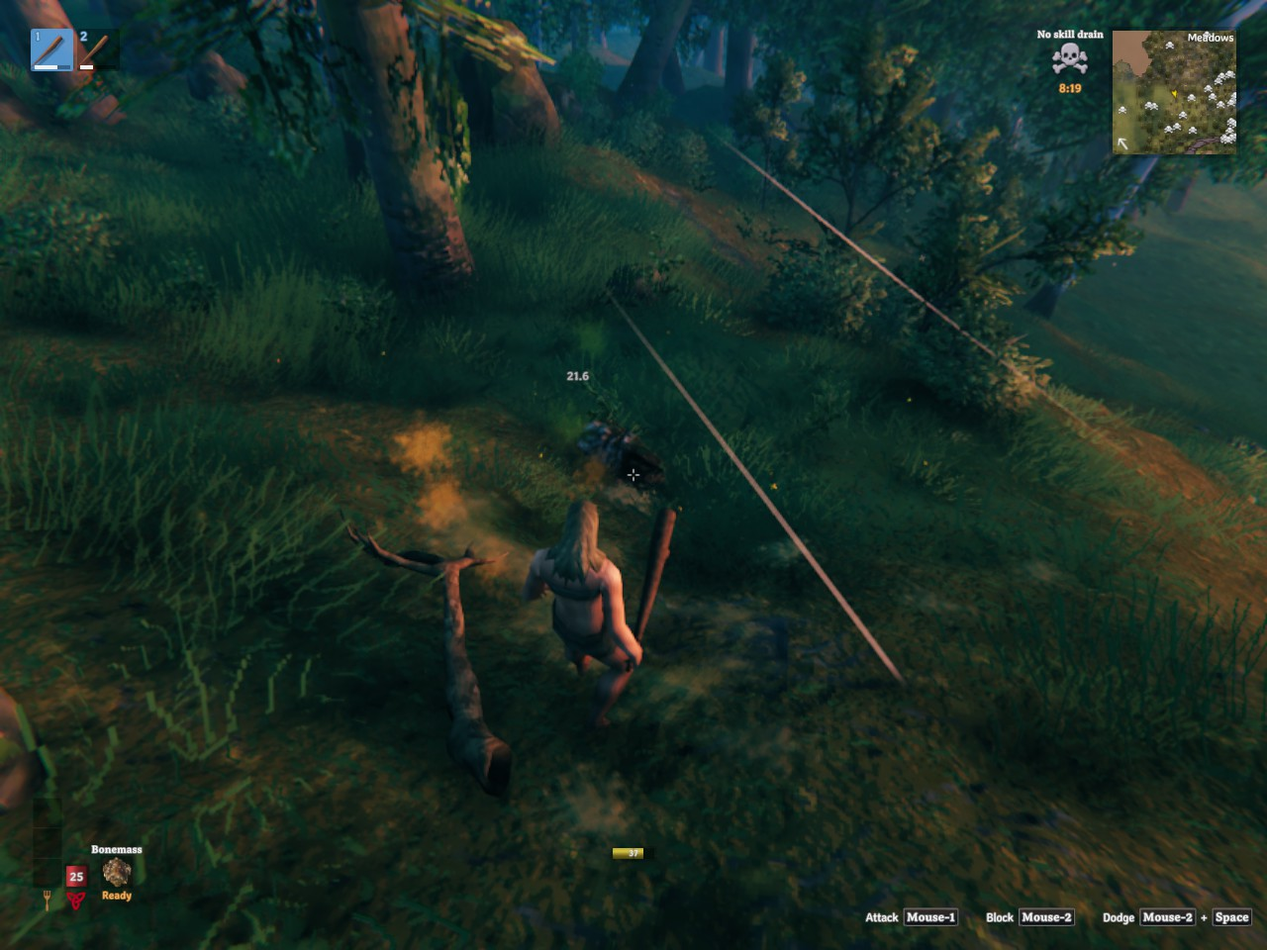Branch: (347, 525, 512, 794)
